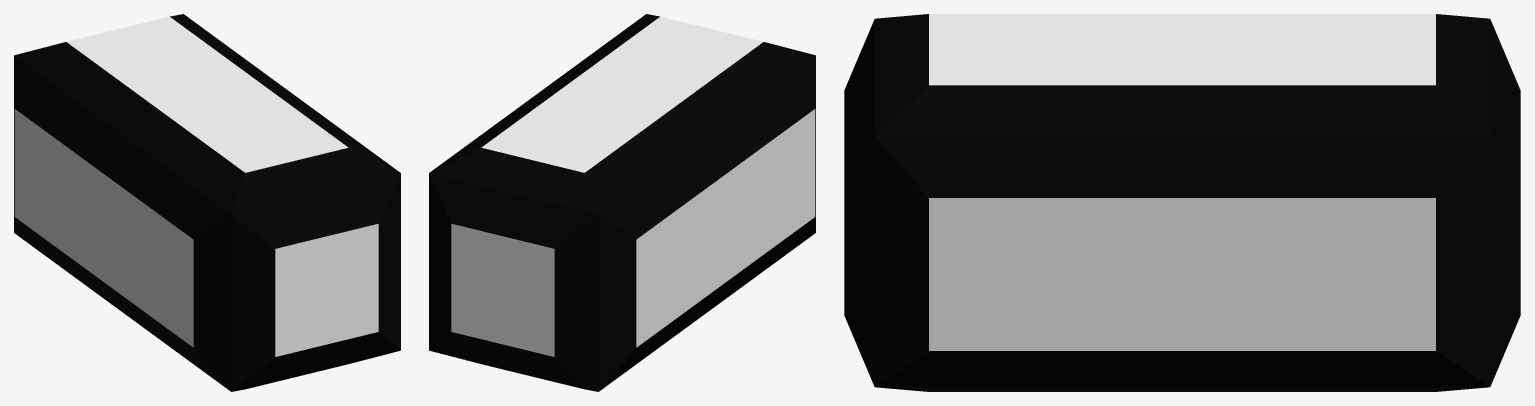
Rendered from tiny_cube_foot.fbx.
The picture shows the model from 3 angles, left to right: view 1: azimuth 30°, elevation 25°; view 2: azimuth 150°, elevation 25°; view 3: azimuth 270°, elevation 25°; orthographic projection. The views are drawn at different scales.
Visible parts, largest first — view 1: Cube.002; view 2: Cube.002; view 3: Cube.002.
Boxes of the visible parts, <box> form: Cube.002: <box>14,14,400,391</box>; Cube.002: <box>429,14,815,391</box>; Cube.002: <box>844,14,1520,391</box>.
Size of the model in its own units: 40 by 40 by 80.
